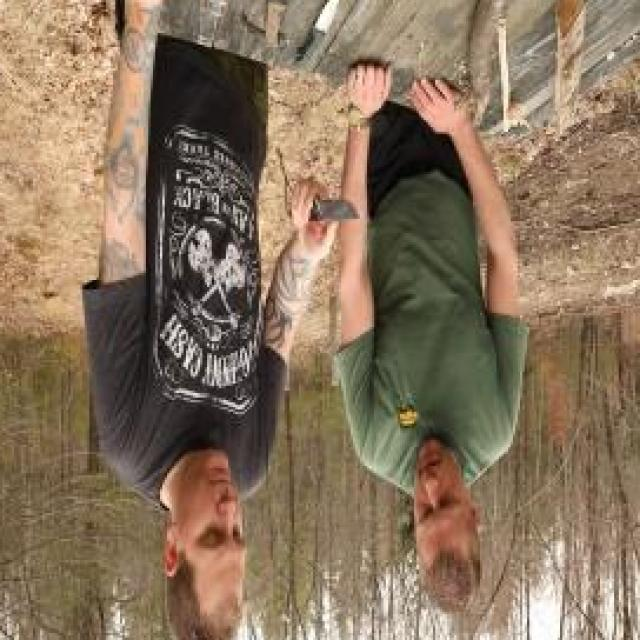knife: (287, 173, 369, 254)
